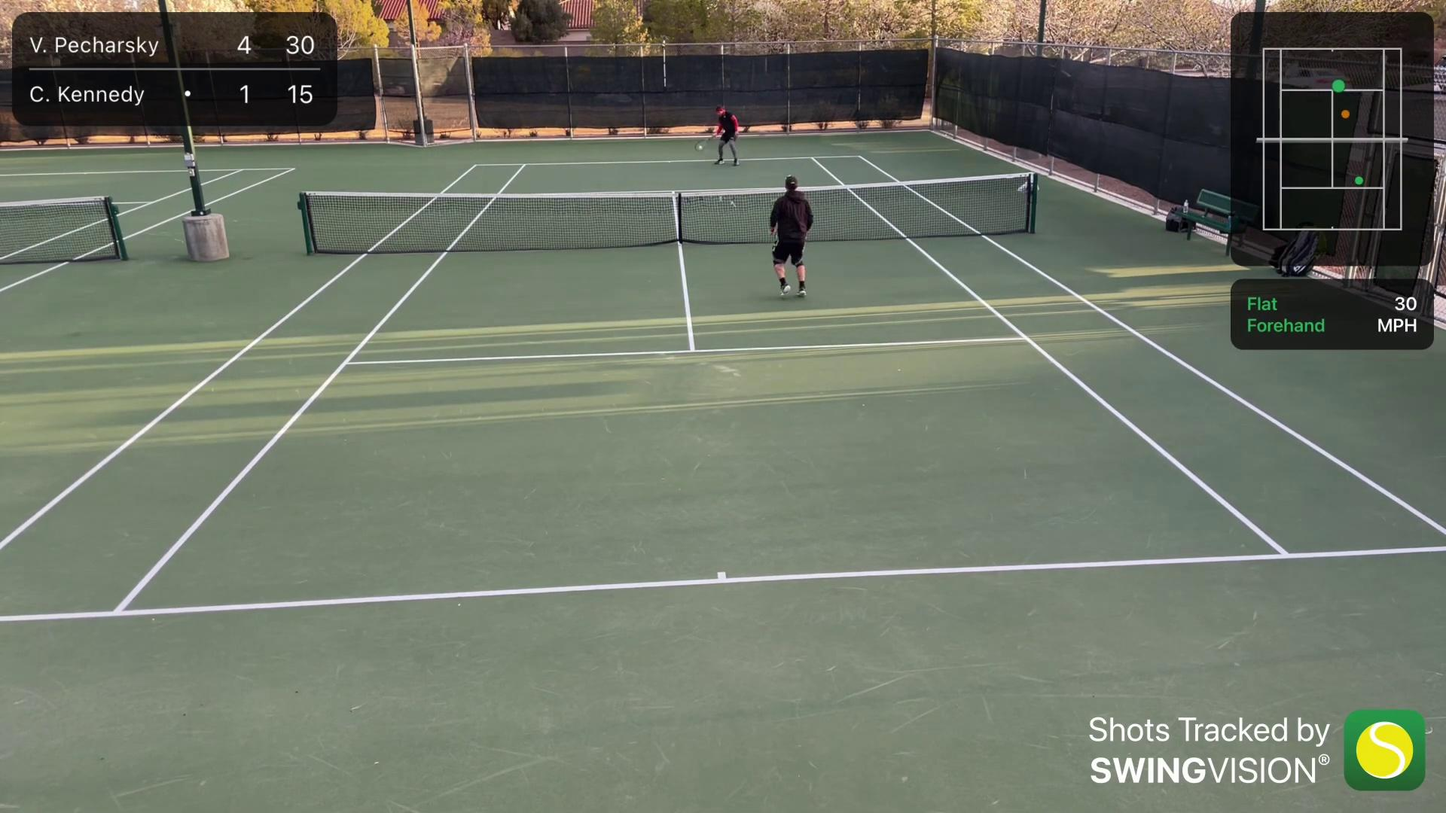ball: (696, 145, 704, 151)
